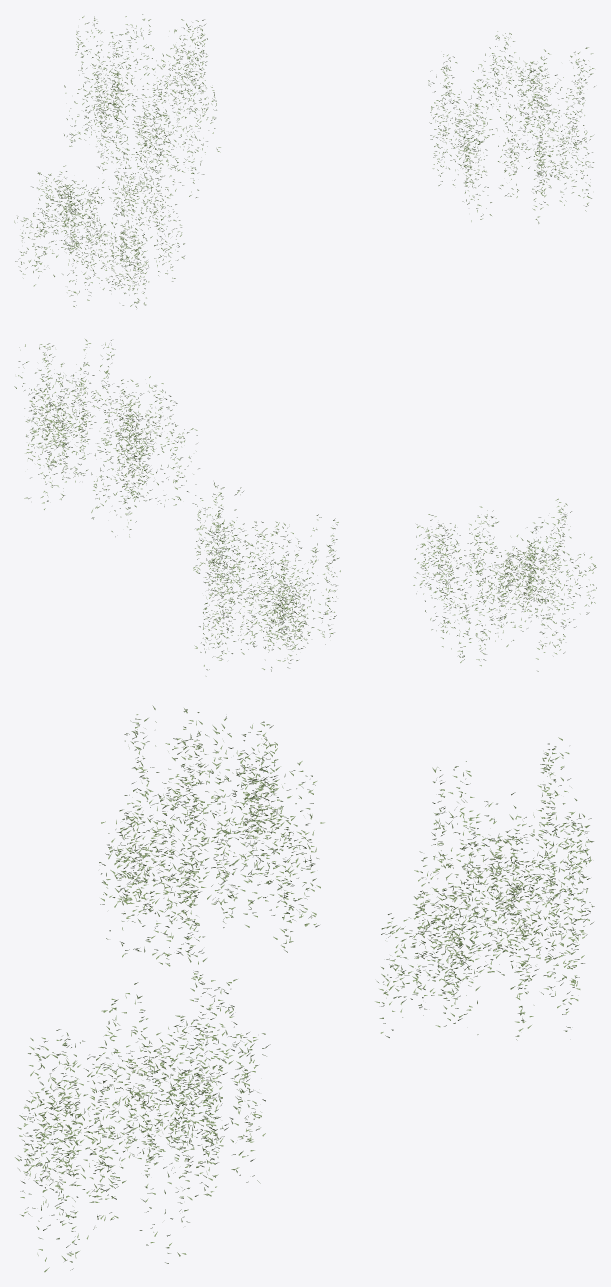
The model's file is xiyuan-vegetation-15-medium.glb.
The picture shows the model from 3 angles, top to bottom: view 1: azimuth 30°, elevation 25°; view 2: azimuth 150°, elevation 25°; view 3: azimuth 270°, elevation 25°; orthographic projection. The views are drawn at different scales.
Visible parts, largest first — view 1: vegetation willow leaves.004; view 2: vegetation willow leaves.004; view 3: vegetation willow leaves.004.
Part boxes in pixels (left/top/right/bottom): vegetation willow leaves.004: left=14, top=14, right=594, bottom=307; vegetation willow leaves.004: left=14, top=339, right=596, bottom=676; vegetation willow leaves.004: left=15, top=705, right=594, bottom=1272.
Size of the model in its own units: 28.97 by 8.84 by 16.39.
